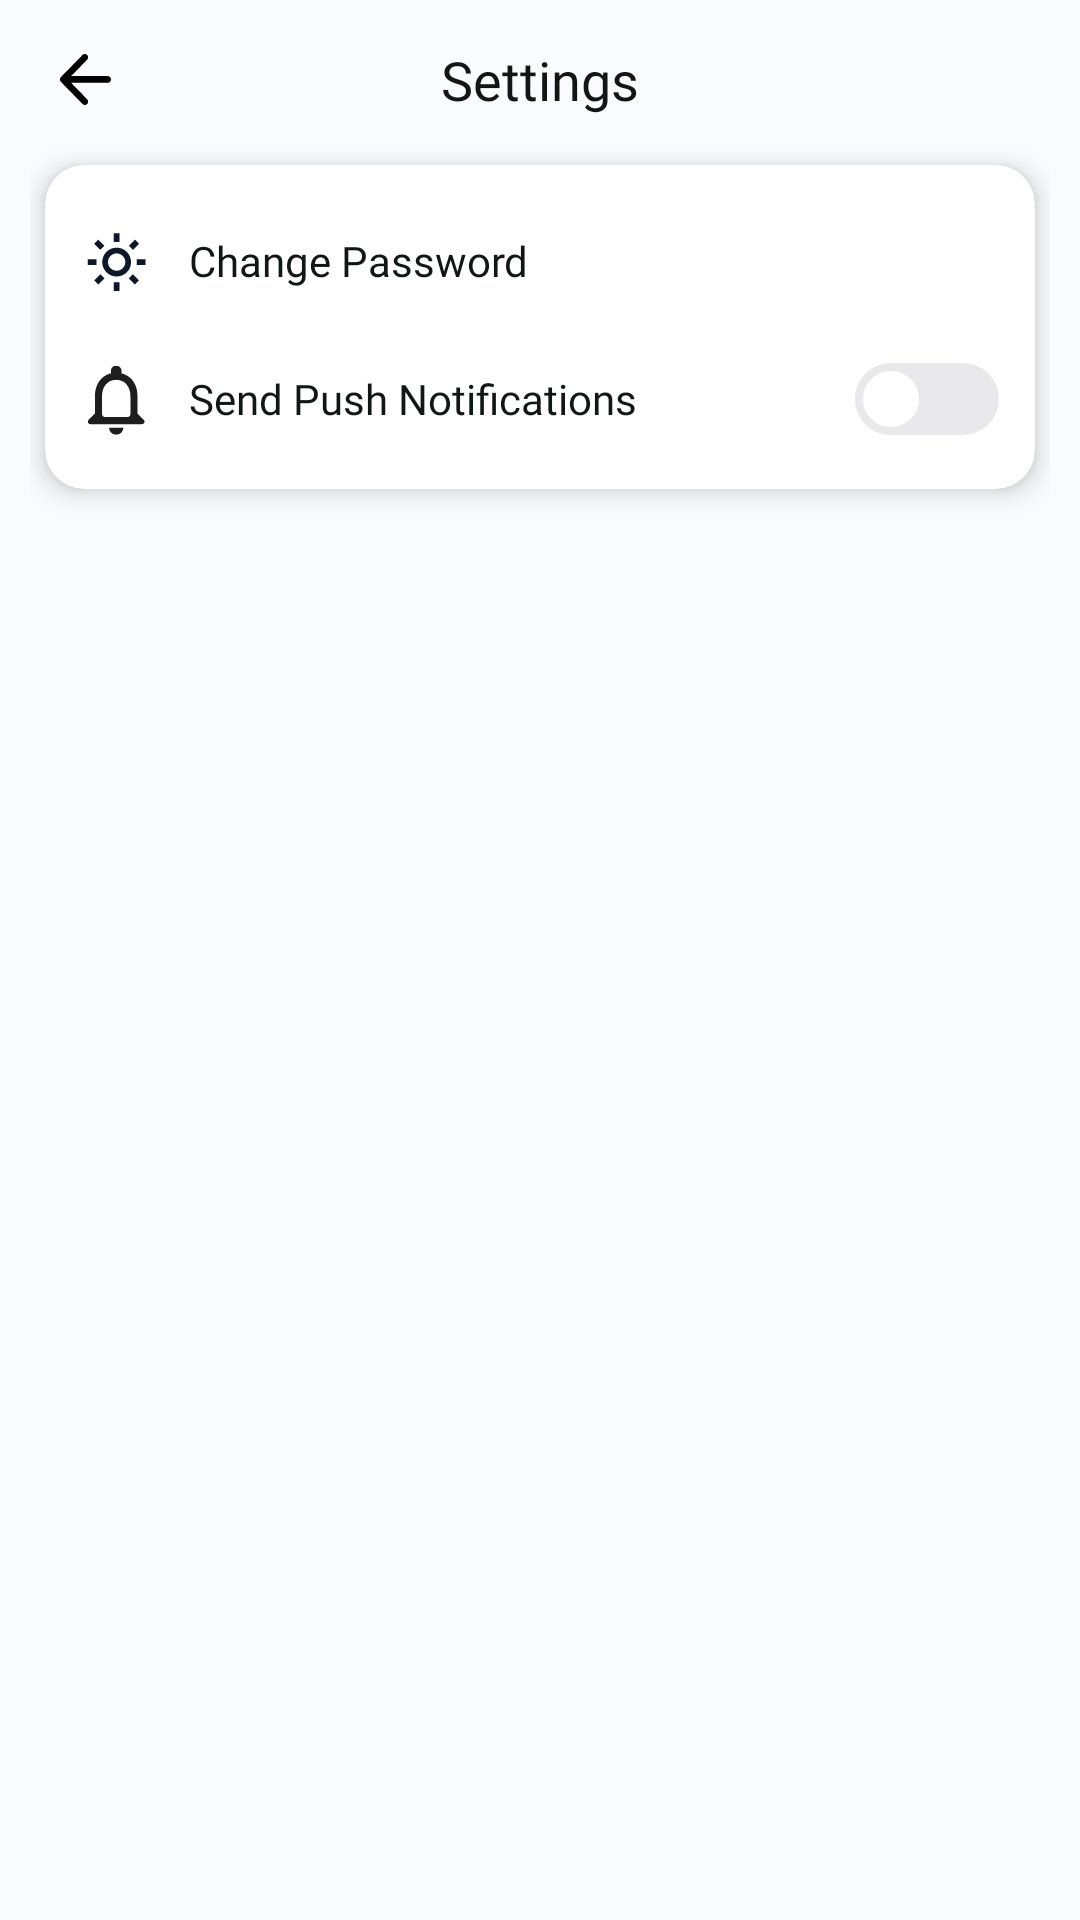

Point at icon controls on the screen. Image size 1080px×1920px, points as [x,y].
back arrow: [85,79]
